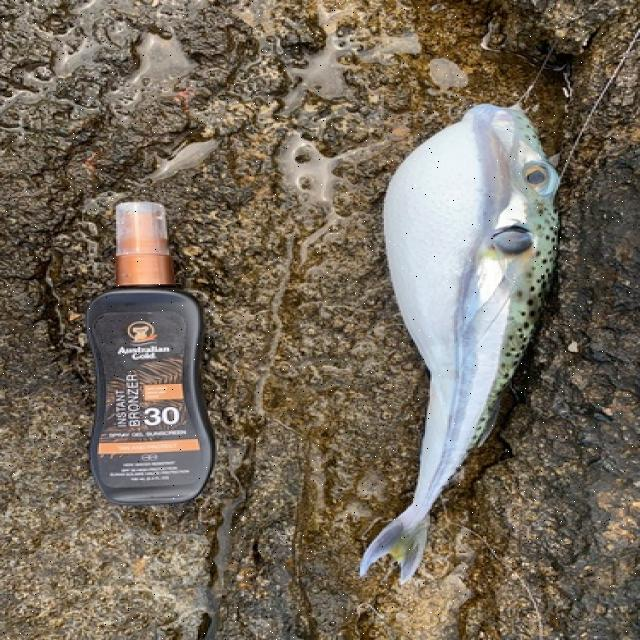Balik: (361, 105, 559, 582)
